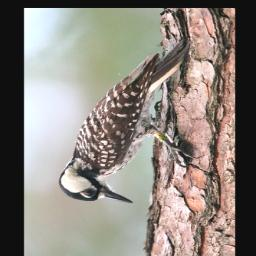Woodpecker: (58, 37, 199, 204)
